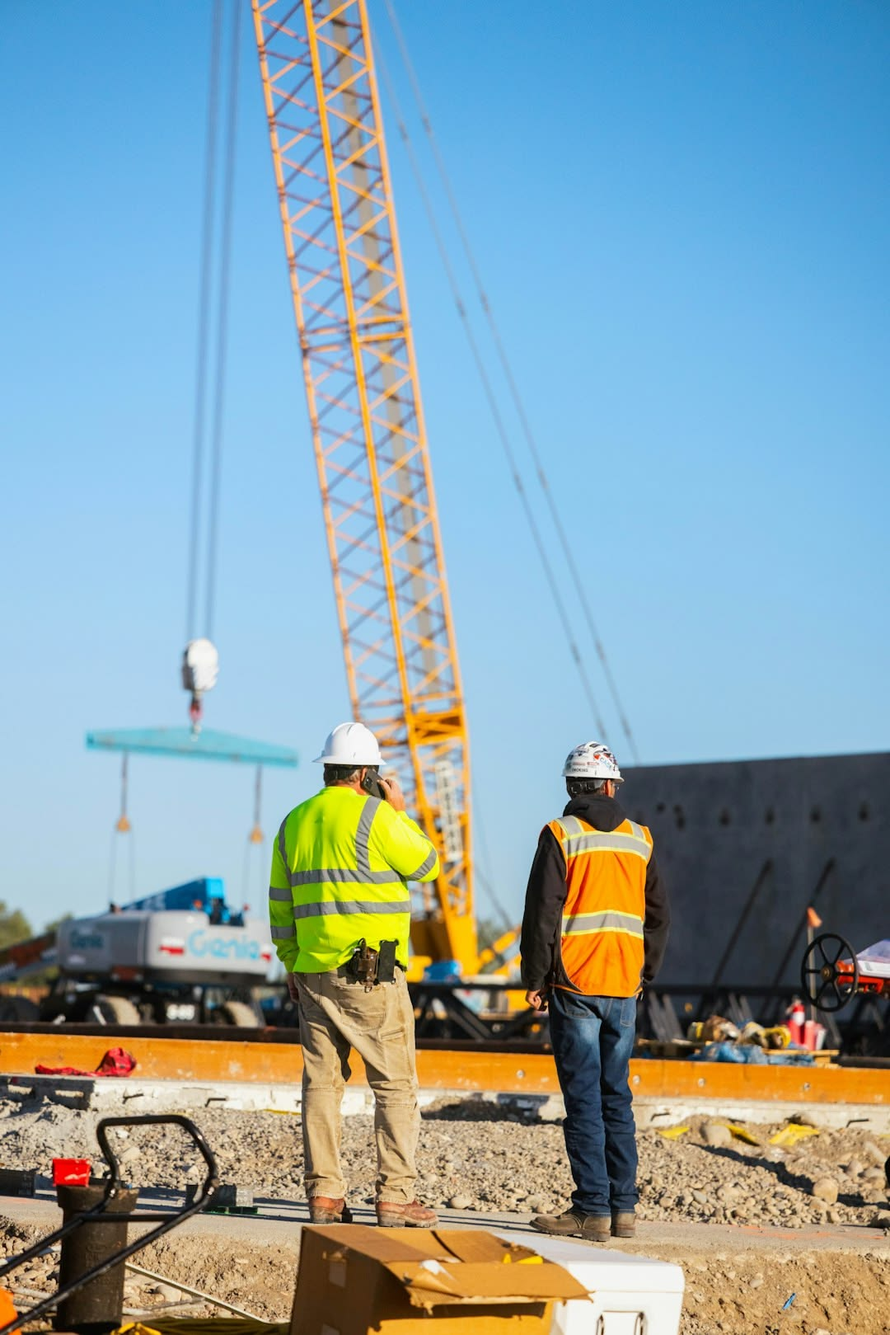crane: (153, 5, 513, 1141)
hardhat: (283, 728, 421, 793), (533, 751, 618, 802)
person: (227, 706, 457, 1246), (520, 744, 699, 1259)
safety_vest: (262, 778, 410, 964), (540, 807, 652, 1017)
